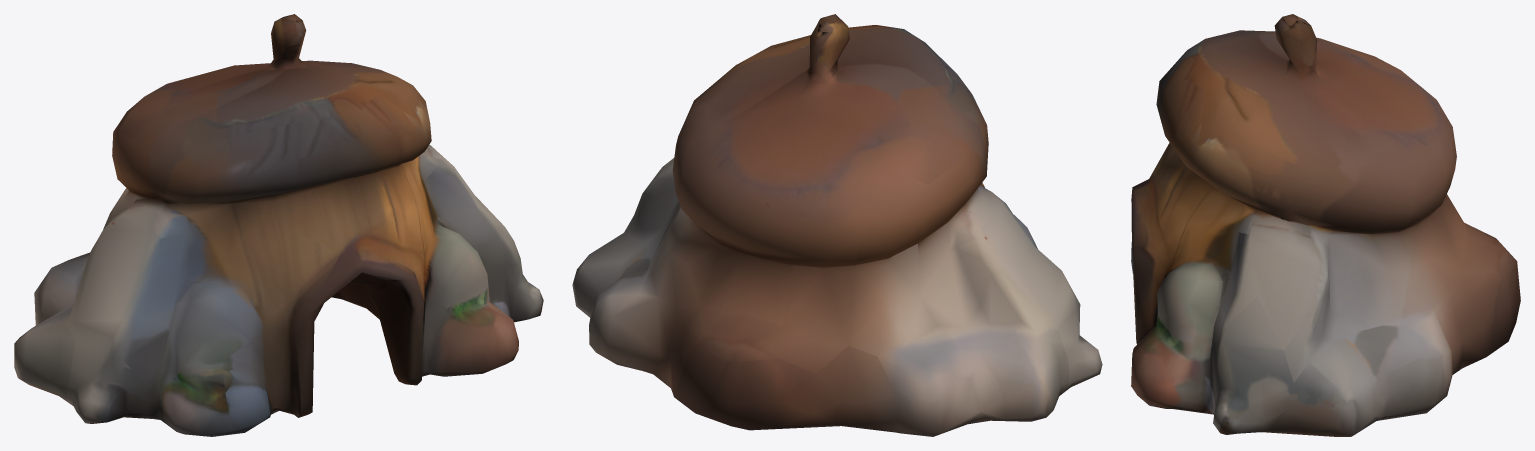
The model's file is Home.fbx.
3 renders of one model, left to right at view 1: azimuth 30°, elevation 25°; view 2: azimuth 150°, elevation 25°; view 3: azimuth 270°, elevation 25°, orthographic. The views are drawn at different scales.
Visible parts, largest first — view 1: home_01; view 2: home_01; view 3: home_01.
Part boxes in pixels (x1,y1,x2,y2): home_01: (14, 14, 543, 436); home_01: (572, 14, 1102, 436); home_01: (1131, 14, 1520, 436).
Size of the model in its own units: 3.33 by 2.19 by 2.43.
